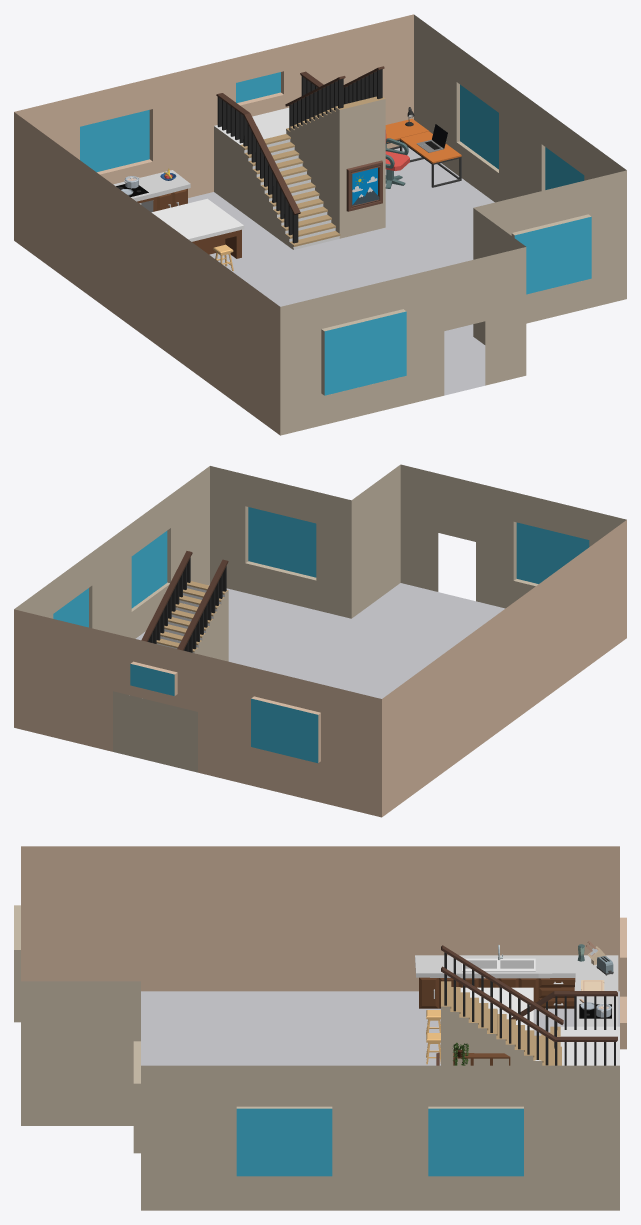
The model's file is insideHouse9.glb.
3 views of the same model, one above another, from view 1: azimuth 30°, elevation 25°; view 2: azimuth 150°, elevation 25°; view 3: azimuth 270°, elevation 25° (orthographic). The views are drawn at different scales.
Parts seen in each view (by area): view 1: wall_north_west, wall_east_south, stairs, floor, windows, kitchenTable, Kitchen, painting, Desk, chair, Desk.001; view 2: wall_north_west, wall_east_south, floor, windows, stairs; view 3: wall_north_west, wall_east_south, floor, windows, stairs, Kitchen, kitchenTable, stools.
Boxes of the visible parts, bbox=[...] form: wall_north_west: bbox=[14, 14, 413, 435]; wall_east_south: bbox=[280, 14, 626, 435]; stairs: bbox=[214, 66, 385, 249]; floor: bbox=[188, 147, 494, 395]; windows: bbox=[80, 72, 591, 395]; kitchenTable: bbox=[151, 198, 244, 258]; Kitchen: bbox=[113, 168, 190, 212]; painting: bbox=[346, 160, 382, 211]; Desk: bbox=[400, 131, 461, 187]; chair: bbox=[385, 130, 409, 170]; Desk.001: bbox=[385, 118, 428, 149]; wall_north_west: bbox=[14, 520, 626, 817]; wall_east_south: bbox=[14, 464, 626, 638]; floor: bbox=[136, 583, 505, 698]; windows: bbox=[53, 507, 589, 763]; stairs: bbox=[113, 551, 228, 772]; wall_north_west: bbox=[21, 846, 626, 1049]; wall_east_south: bbox=[14, 905, 619, 1210]; floor: bbox=[141, 991, 619, 1065]; windows: bbox=[236, 1108, 523, 1176]; stairs: bbox=[441, 945, 619, 1065]; Kitchen: bbox=[415, 941, 618, 1026]; kitchenTable: bbox=[460, 987, 533, 1030]; stools: bbox=[426, 1010, 440, 1064].
Size of the model in its own units: 13.12 by 5.01 by 15.36.
80 materials, 1 textured.
